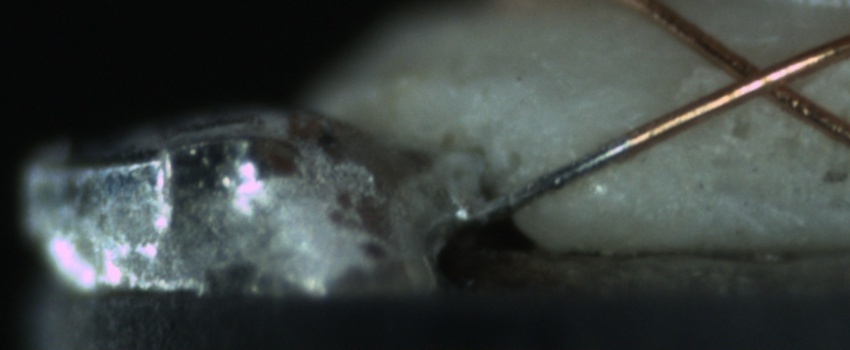CL: (697, 40, 829, 112)
TS: (459, 134, 632, 224)
